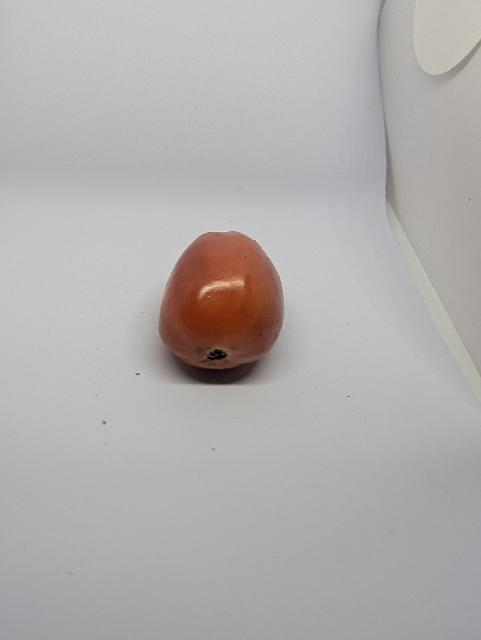red: (156, 229, 287, 372)
